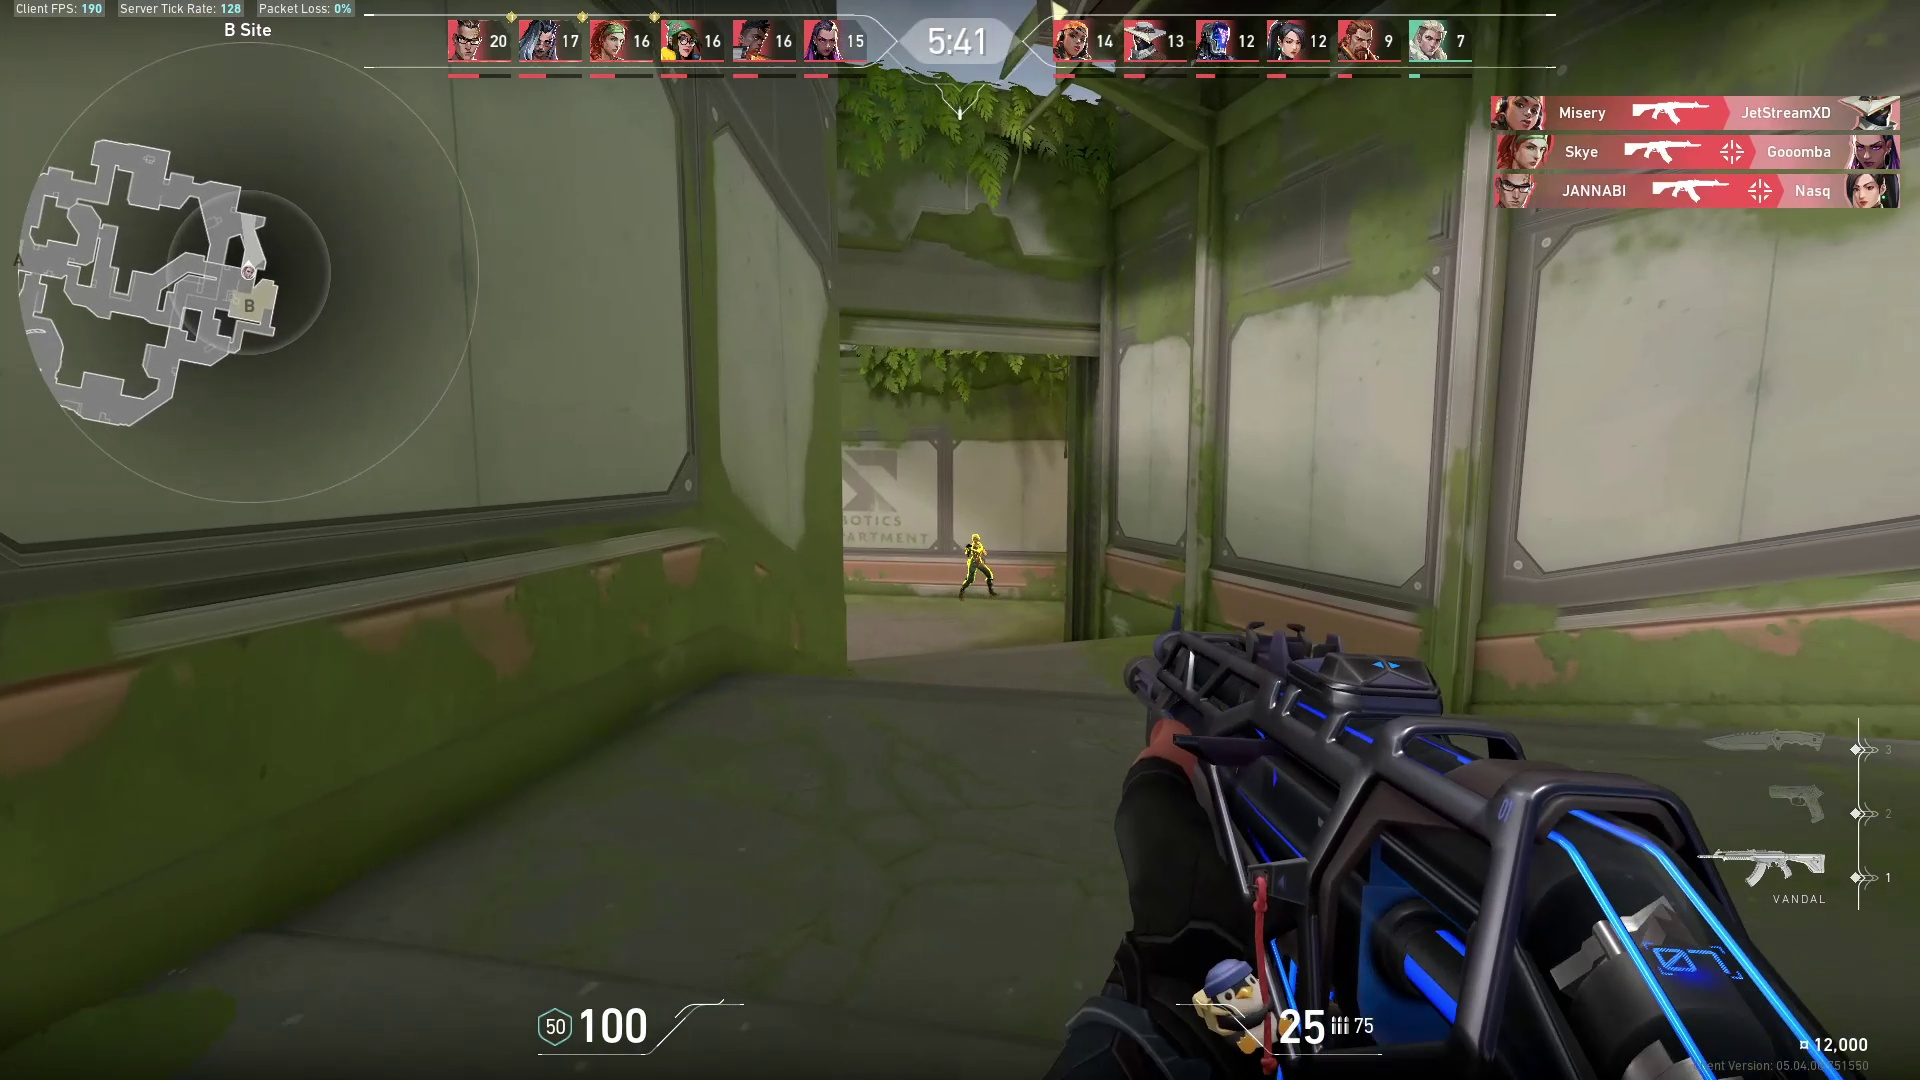enemy_body: (957, 545, 1000, 603)
enemy_head: (969, 531, 982, 545)
